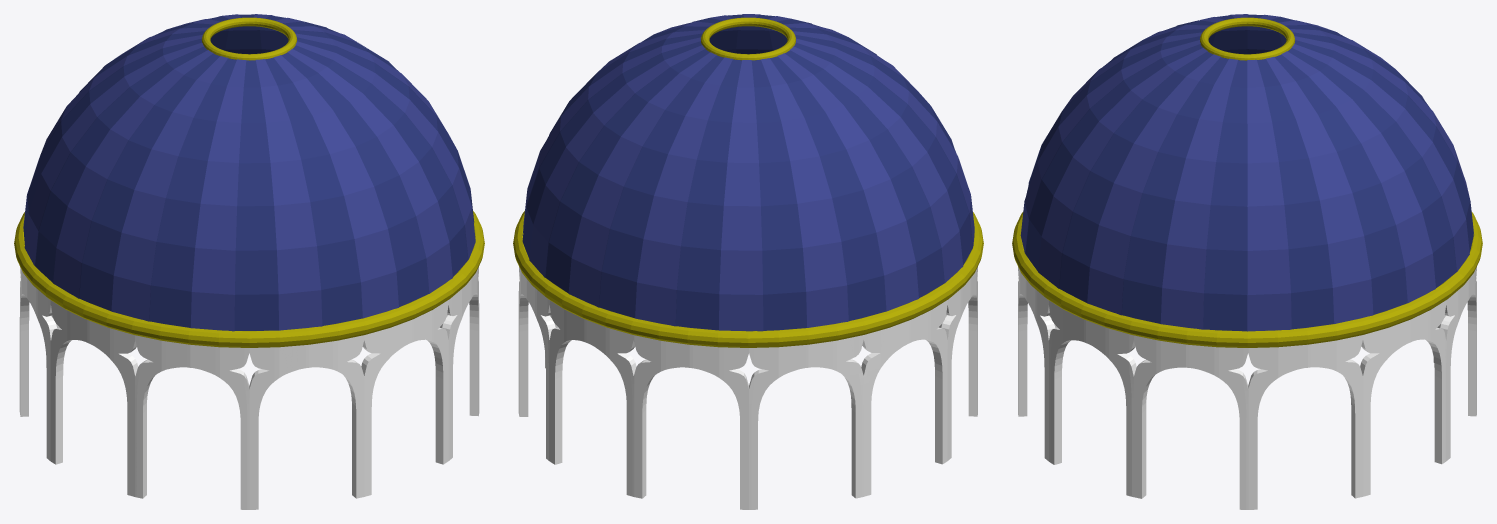
Rendered from Tholos.fbx.
3 views of the same model, side by side, from view 1: azimuth 30°, elevation 25°; view 2: azimuth 150°, elevation 25°; view 3: azimuth 270°, elevation 25° (orthographic).
Parts seen in each view (by area): view 1: Plane.002; view 2: Plane.002; view 3: Plane.002.
Part boxes in pixels (x1,y1,x2,y2): Plane.002: [14, 14, 484, 509]; Plane.002: [513, 14, 983, 509]; Plane.002: [1012, 14, 1482, 509].
Bounding box in the file's own units: 4308 × 3803 × 4308.
